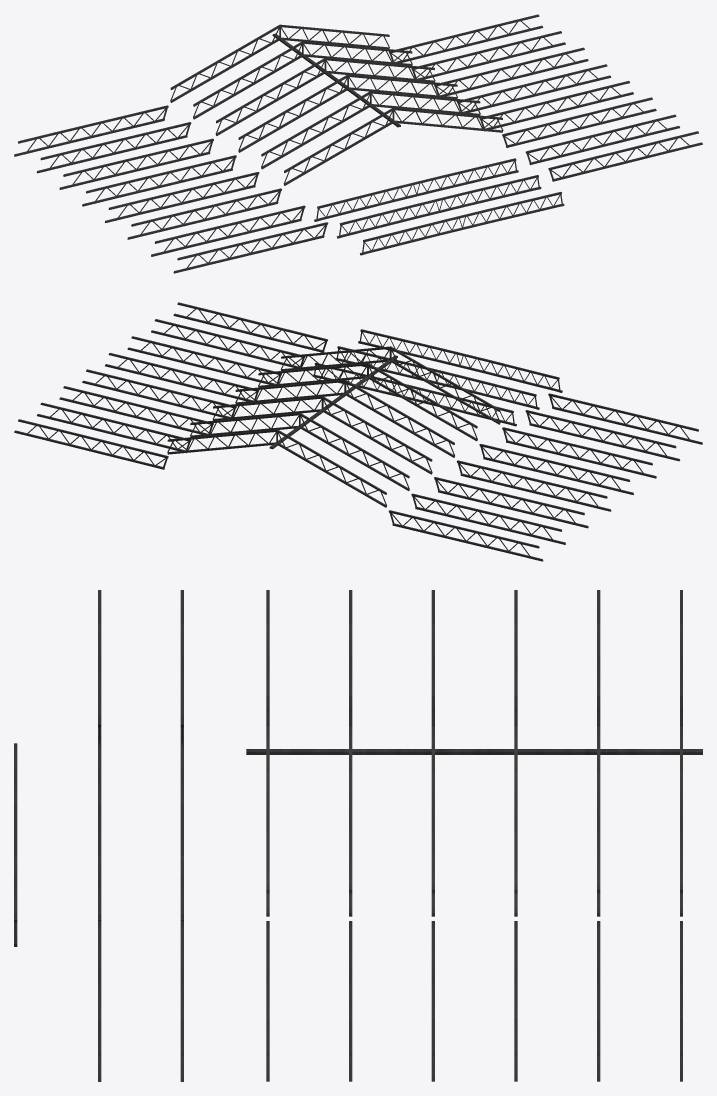
Rendered from A-Truss.glb.
The picture shows the model from 3 angles, top to bottom: view 1: azimuth 30°, elevation 25°; view 2: azimuth 150°, elevation 25°; view 3: azimuth 270°, elevation 25°; orthographic projection. The views are drawn at different scales.
Parts seen in each view (by area): view 1: A-Truss.002; view 2: A-Truss.002; view 3: A-Truss.002.
Part boxes in pixels (bbox=[...]): A-Truss.002: bbox=[14, 14, 702, 273]; A-Truss.002: bbox=[14, 302, 702, 561]; A-Truss.002: bbox=[14, 590, 702, 1081].
Size of the model in its own units: 18.53 by 2.4 by 11.47.
Materials: 1 (1 with a texture image).
